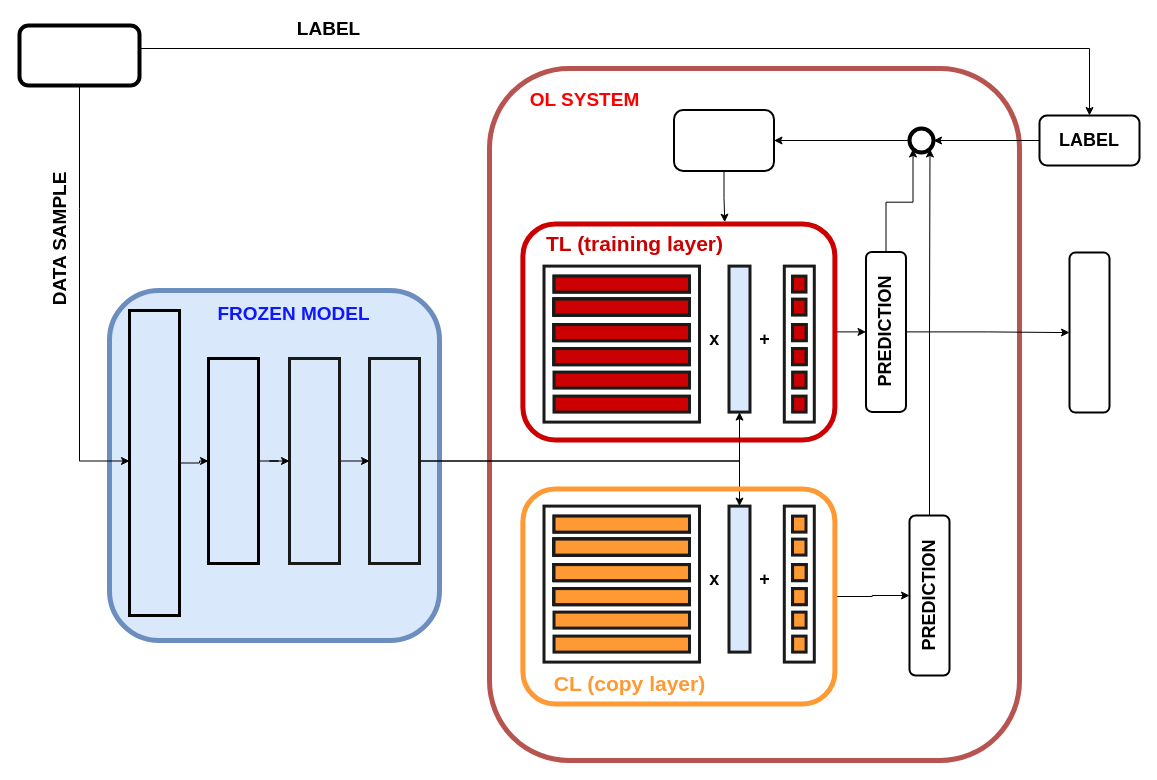
This 1157x780 diagram has some shape labels left out. Each missing label, with the centre of its shape:
"DATASET" goes at point (79, 55).
"OUTPUT" goes at point (1089, 332).
"UPDATE RULE" goes at point (723, 140).
